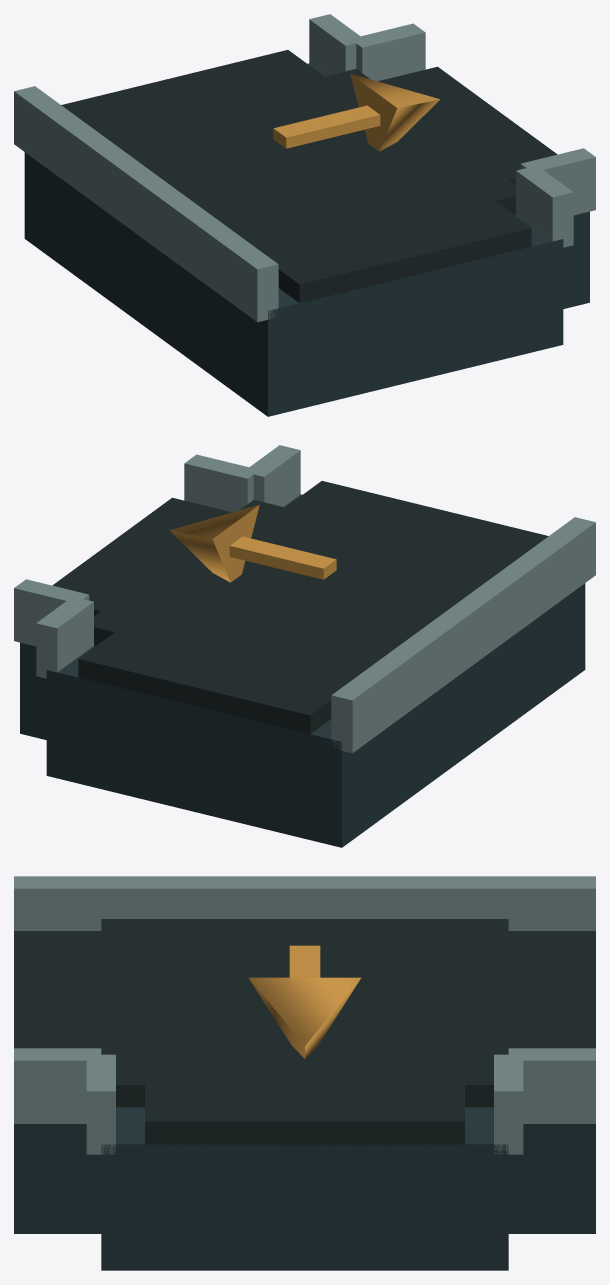
Rendered from belt-10.glb.
3 renders of one model, top to bottom at view 1: azimuth 30°, elevation 25°; view 2: azimuth 150°, elevation 25°; view 3: azimuth 270°, elevation 25°, orthographic. The views are drawn at different scales.
Visible parts, largest first — view 1: Batched static factory; view 2: Batched static factory; view 3: Batched static factory.
Boxes of the visible parts, box(x1,y1,x2,y2) form: Batched static factory: box(14, 14, 595, 416); Batched static factory: box(14, 445, 595, 847); Batched static factory: box(14, 876, 595, 1270).
Bounding box in the file's own units: 0.875 × 0.4111 × 1.
